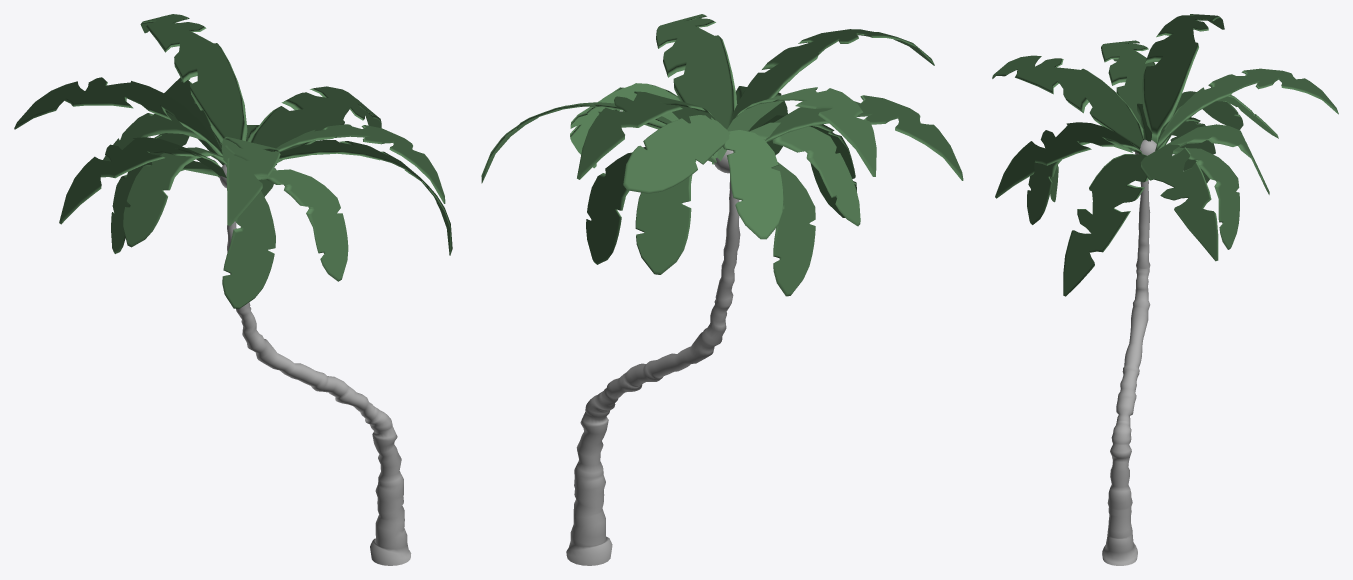
The model's file is fol_palm_b_02_uv.fbx.
3 views of the same model, side by side, from view 1: azimuth 30°, elevation 25°; view 2: azimuth 150°, elevation 25°; view 3: azimuth 270°, elevation 25° (orthographic). The views are drawn at different scales.
Visible parts, largest first — view 1: paml_b_tree2; view 2: paml_b_tree2; view 3: paml_b_tree2.
Part boxes in pixels (bbox=[...]): paml_b_tree2: bbox=[14, 14, 452, 565]; paml_b_tree2: bbox=[481, 14, 963, 565]; paml_b_tree2: bbox=[992, 14, 1338, 565].
Size of the model in its own units: 23.03 by 29.51 by 21.49.
